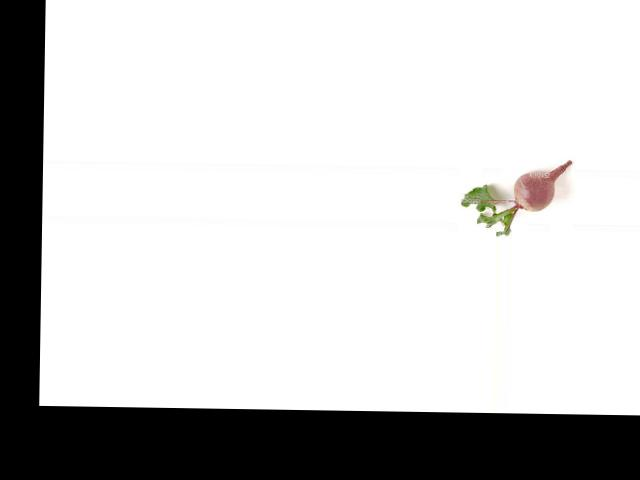beet: (460, 158, 571, 237)
